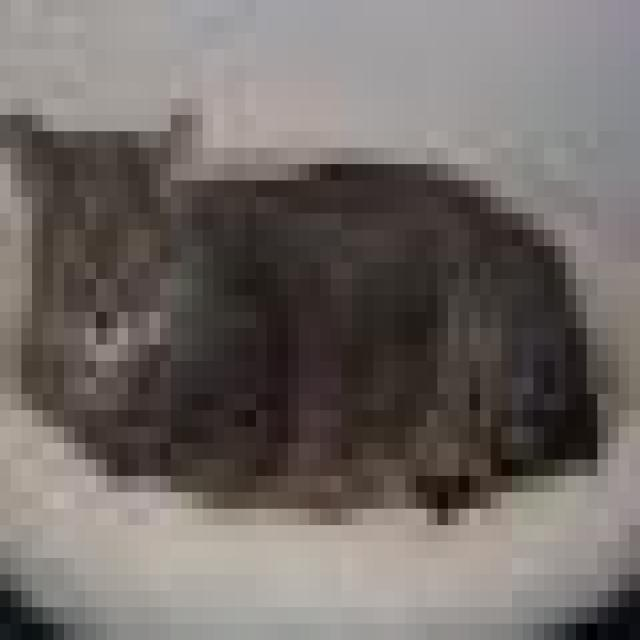cat: (0, 98, 597, 508)
